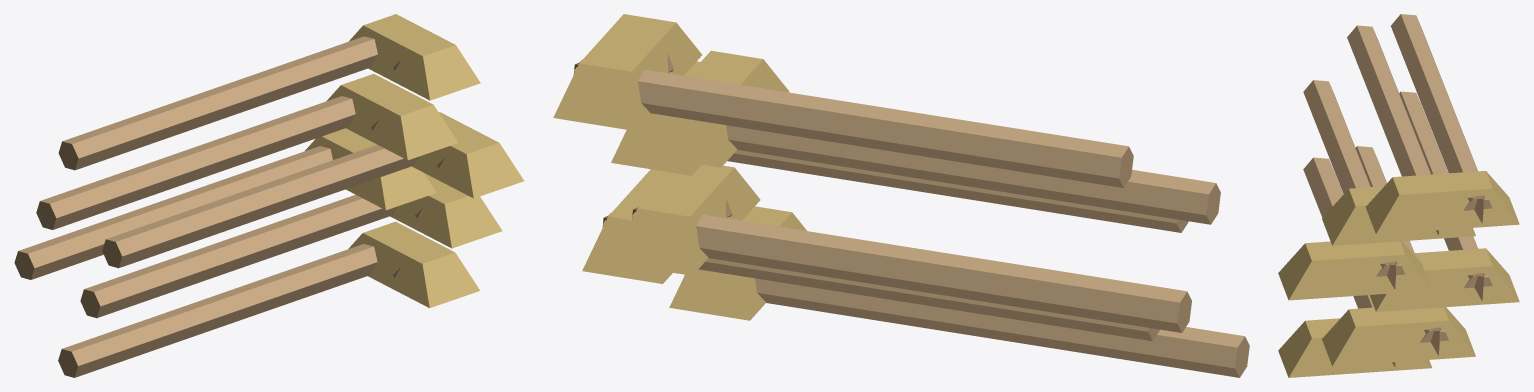
File: item_083_bronze_axe_l.glb
3 renders of one model, left to right at view 1: azimuth 30°, elevation 25°; view 2: azimuth 150°, elevation 25°; view 3: azimuth 270°, elevation 25°, orthographic. The views are drawn at different scales.
Visible parts, largest first — view 1: item_083_bronze_axe_l; view 2: item_083_bronze_axe_l; view 3: item_083_bronze_axe_l.
Part boxes in pixels (x1,y1,x2,y2): item_083_bronze_axe_l: (14, 14, 523, 377); item_083_bronze_axe_l: (553, 14, 1249, 377); item_083_bronze_axe_l: (1278, 14, 1519, 377).
Bounding box in the file's own units: 0.7039 × 0.3094 × 0.3318.
